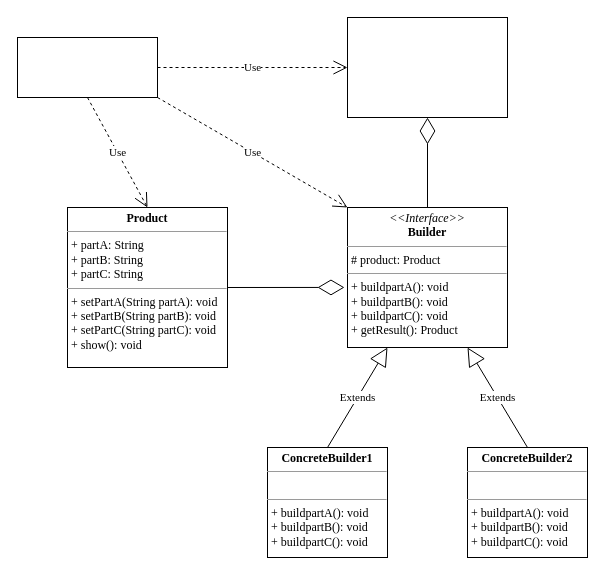
Some shapes in this 605 by 575 pixel diagram are drawn without their labels. Each missing label, with the centre of its shape:
"Client" goes at point 87,67.
"Director - builder: Builder + Director(Builder builder) + construct(): Product" goes at point 427,67.
